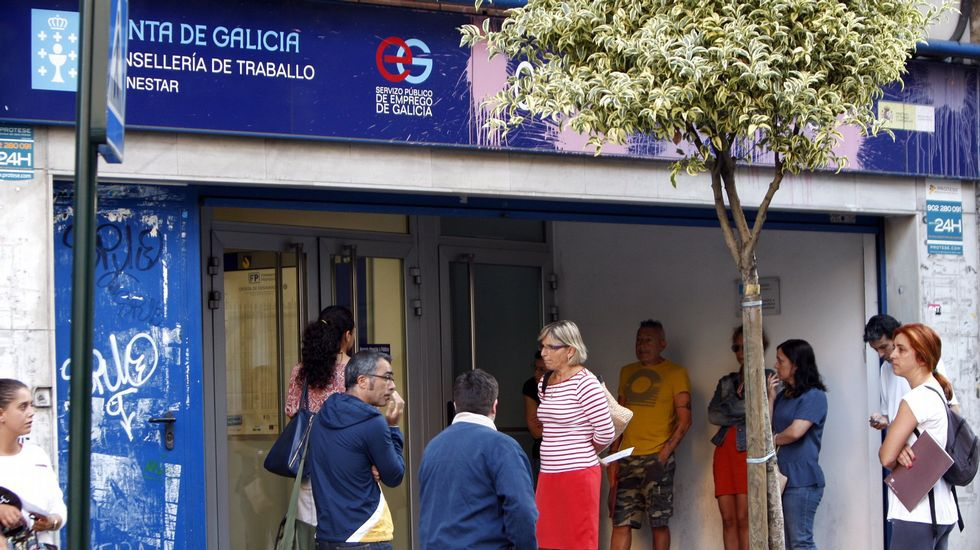person: (438, 374, 537, 540), (530, 315, 619, 475), (332, 344, 400, 480), (884, 326, 951, 451), (619, 312, 695, 409)
